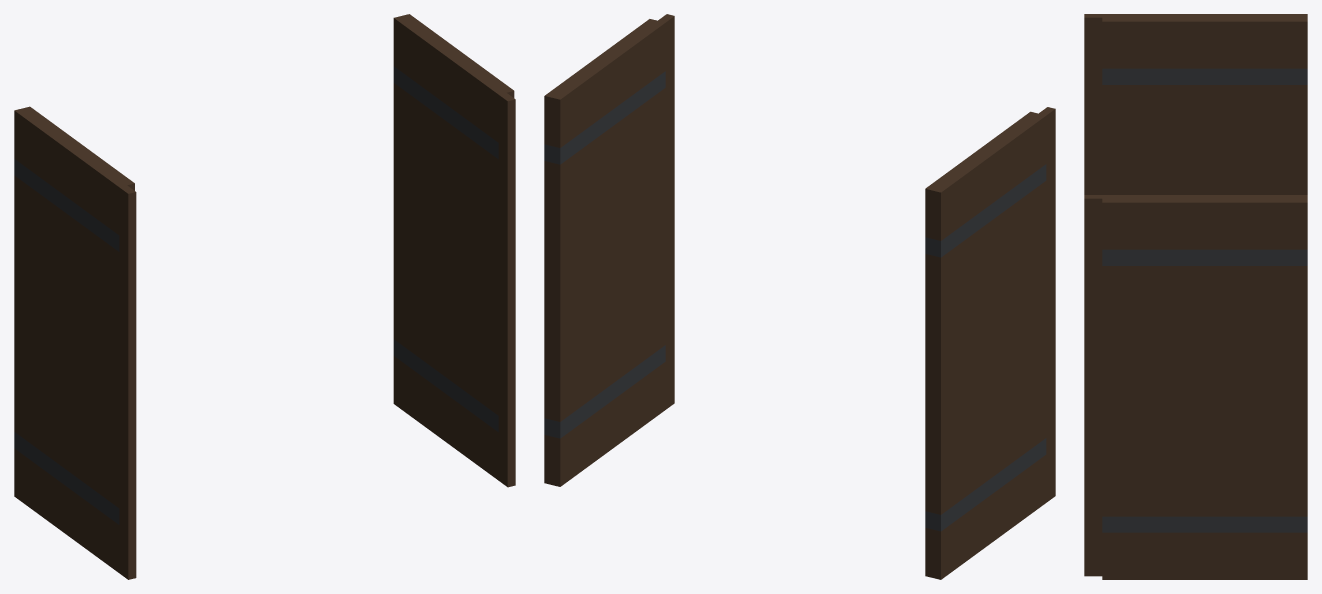
3 renders of one model, left to right at view 1: azimuth 30°, elevation 25°; view 2: azimuth 150°, elevation 25°; view 3: azimuth 270°, elevation 25°, orthographic. The views are drawn at different scales.
Parts seen in each view (by area): view 1: Mesh_PortalLeafW_OakBand2, Mesh_PortalLeafE_OakBand2, Mesh_PortalLeafW_MeetingStile, Mesh_PortalLeafE_MeetingStile, Mesh_PortalLeafE_OakBand4, Mesh_PortalLeafW_OakBand4, Mesh_PortalLeafW_OakBand0, Mesh_PortalLeafE_OakBand0, Mesh_PortalLeafW_IronBand1, Mesh_PortalLeafW_IronBand3, Mesh_PortalLeafE_IronBand1, Mesh_PortalLeafE_IronBand3; view 2: Mesh_PortalLeafE_OakBand2, Mesh_PortalLeafW_OakBand2, Mesh_PortalLeafW_OakBand4, Mesh_PortalLeafE_OakBand4, Mesh_PortalLeafE_OakBand0, Mesh_PortalLeafW_OakBand0, Mesh_PortalLeafW_MeetingStile, Mesh_PortalLeafE_MeetingStile, Mesh_PortalLeafW_IronBand3, Mesh_PortalLeafW_IronBand1, Mesh_PortalLeafE_IronBand1, Mesh_PortalLeafE_IronBand3; view 3: Mesh_PortalLeafE_OakBand2, Mesh_PortalLeafW_OakBand2, Mesh_PortalLeafW_OakBand4, Mesh_PortalLeafE_OakBand4, Mesh_PortalLeafE_OakBand0, Mesh_PortalLeafE_MeetingStile, Mesh_PortalLeafW_IronBand3, Mesh_PortalLeafE_IronBand1, Mesh_PortalLeafE_IronBand3, Mesh_PortalLeafW_MeetingStile.
Part boxes in pixels (<box>): Mesh_PortalLeafW_OakBand2: <box>14,175,119,507</box>; Mesh_PortalLeafE_OakBand2: <box>393,83,498,415</box>; Mesh_PortalLeafW_MeetingStile: <box>119,185,136,579</box>; Mesh_PortalLeafE_MeetingStile: <box>498,93,515,487</box>; Mesh_PortalLeafE_OakBand4: <box>393,14,514,142</box>; Mesh_PortalLeafW_OakBand4: <box>14,106,134,234</box>; Mesh_PortalLeafW_OakBand0: <box>14,448,119,572</box>; Mesh_PortalLeafE_OakBand0: <box>393,356,498,480</box>; Mesh_PortalLeafW_IronBand1: <box>14,432,119,524</box>; Mesh_PortalLeafW_IronBand3: <box>14,159,119,251</box>; Mesh_PortalLeafE_IronBand1: <box>393,339,498,431</box>; Mesh_PortalLeafE_IronBand3: <box>393,66,498,158</box>; Mesh_PortalLeafE_OakBand2: <box>544,88,665,421</box>; Mesh_PortalLeafW_OakBand2: <box>925,181,1046,514</box>; Mesh_PortalLeafW_OakBand4: <box>925,111,1046,240</box>; Mesh_PortalLeafE_OakBand4: <box>544,19,665,147</box>; Mesh_PortalLeafE_OakBand0: <box>544,362,665,486</box>; Mesh_PortalLeafW_OakBand0: <box>925,455,1046,579</box>; Mesh_PortalLeafW_MeetingStile: <box>1039,107,1055,502</box>; Mesh_PortalLeafE_MeetingStile: <box>658,14,674,409</box>; Mesh_PortalLeafW_IronBand3: <box>925,164,1046,257</box>; Mesh_PortalLeafW_IronBand1: <box>925,438,1046,531</box>; Mesh_PortalLeafE_IronBand1: <box>544,345,665,438</box>; Mesh_PortalLeafE_IronBand3: <box>544,71,665,164</box>; Mesh_PortalLeafE_OakBand2: <box>1102,266,1307,516</box>; Mesh_PortalLeafW_OakBand2: <box>1102,85,1307,194</box>; Mesh_PortalLeafW_OakBand4: <box>1102,14,1307,68</box>; Mesh_PortalLeafE_OakBand4: <box>1102,195,1307,249</box>; Mesh_PortalLeafE_OakBand0: <box>1102,532,1307,579</box>; Mesh_PortalLeafE_MeetingStile: <box>1084,195,1102,576</box>; Mesh_PortalLeafW_IronBand3: <box>1102,68,1307,84</box>; Mesh_PortalLeafE_IronBand1: <box>1102,516,1307,532</box>; Mesh_PortalLeafE_IronBand3: <box>1102,249,1307,265</box>; Mesh_PortalLeafW_MeetingStile: <box>1084,14,1102,194</box>.
Bounding box in the file's own units: 3 × 2.8 × 1.5.
